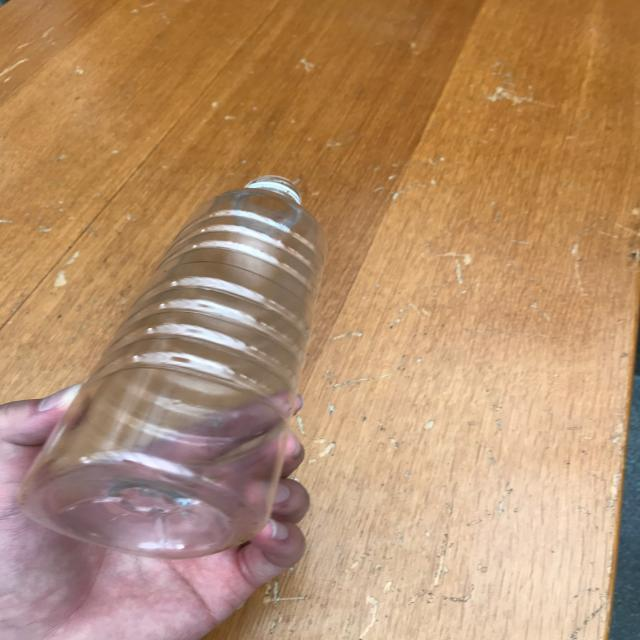bottle: (18, 175, 327, 559)
